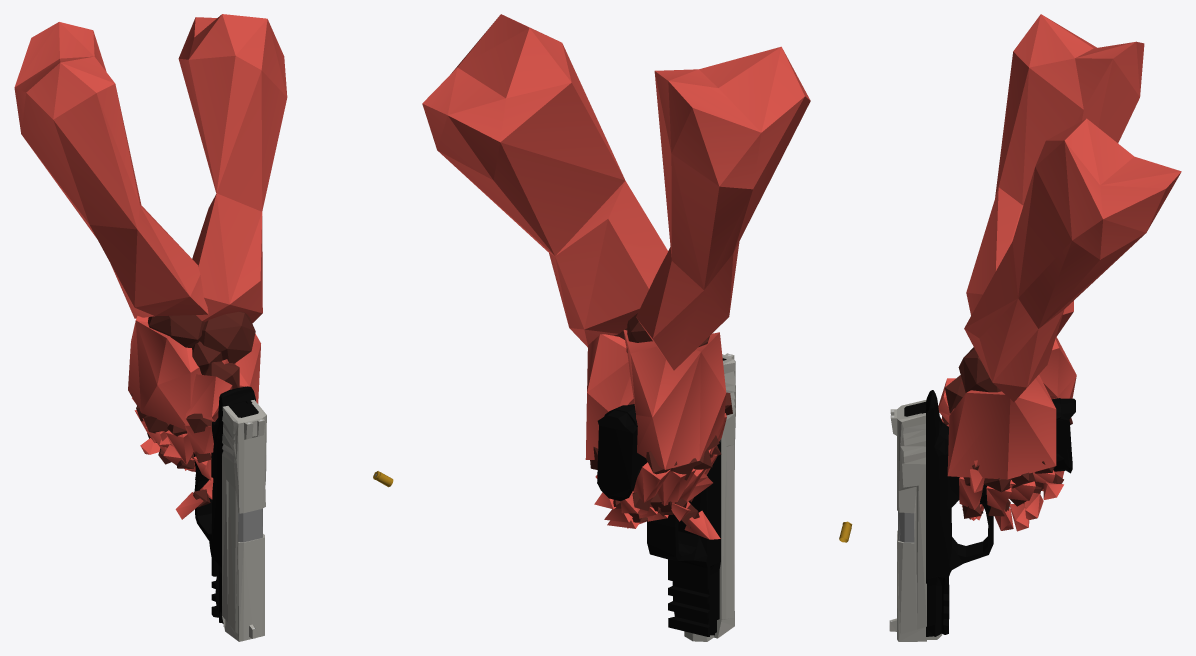
The model's file is M&P9shoot3LowP_000207.obj.
3 renders of one model, left to right at view 1: azimuth 30°, elevation 25°; view 2: azimuth 150°, elevation 25°; view 3: azimuth 270°, elevation 25°, orthographic. The views are drawn at different scales.
Visible parts, largest first — view 1: Beta_Surface.001_Beta_Surface.002, slide_平面.002, Beta_Joints.001_Beta_Joints.002, triger_平面.001; view 2: Beta_Surface.001_Beta_Surface.002, triger_平面.001, slide_平面.002, Beta_Joints.001_Beta_Joints.002; view 3: Beta_Surface.001_Beta_Surface.002, triger_平面.001, slide_平面.002, Beta_Joints.001_Beta_Joints.002.
Part boxes in pixels (box(x1,y1,x2,y2)): Beta_Surface.001_Beta_Surface.002: box(14, 14, 287, 519); slide_平面.002: box(222, 399, 266, 641); Beta_Joints.001_Beta_Joints.002: box(131, 311, 255, 507); triger_平面.001: box(193, 386, 262, 623); Beta_Surface.001_Beta_Surface.002: box(422, 14, 810, 539); triger_平面.001: box(597, 404, 720, 636); slide_平面.002: box(684, 353, 735, 641); Beta_Joints.001_Beta_Joints.002: box(590, 313, 732, 528); Beta_Surface.001_Beta_Surface.002: box(938, 14, 1181, 531); triger_平面.001: box(898, 390, 1075, 636); slide_平面.002: box(889, 400, 942, 641); Beta_Joints.001_Beta_Joints.002: box(942, 347, 1072, 519).
Bounding box in the file's own units: 42.47 × 80.1 × 44.24.
